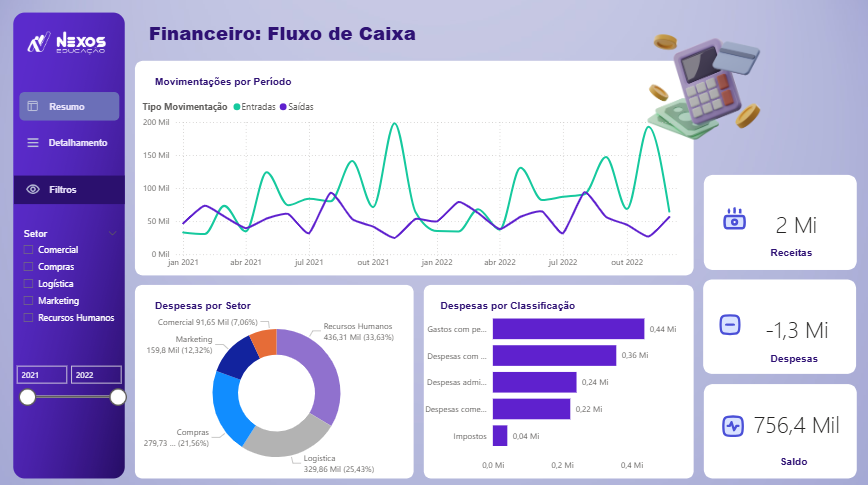

The page's visual inventory and layout, read from the dashboard file:
{"tool":"powerbi","page":{"name":"Página 1","canvas":[1280,720],"ordinal":0},"visuals":[{"type":"lineChart","fields":{"Category":["Extratos.Data.Variation.Hierarquia de datas.Ano","Extratos.Data.Variation.Hierarquia de datas.Trimestre","Extratos.Data.Variation.Hierarquia de datas.Mês","Extratos.Data.Variation.Hierarquia de datas.Dia"],"Y":["Sum(Extratos.Valor)"],"Series":["Extratos.Tipo Movimentação"]},"box":[205.9,136.8,809.3,267.8],"z":0},{"type":"card","fields":{"Values":["Sum(Extratos.Saldo)"]},"box":[1081.8,579.5,184.8,89],"z":1000},{"type":"slicer","fields":{"Values":["Setores.Setor"]},"box":[23,331.2,162.7,177.1],"z":2000},{"type":"slicer","fields":{"Values":["Extratos.Data.Variation.Hierarquia de datas.Ano"]},"box":[13,528.5,182.9,103.7],"z":3000},{"type":"card","fields":{"Values":["Sum(Extratos.Saldo)"]},"box":[1081.4,286.9,183.9,86.8],"z":4000},{"type":"card","fields":{"Values":["Sum(Extratos.Saldo)"]},"box":[1081.8,440.1,184.8,89],"z":5000},{"type":"clusteredBarChart","fields":{"Y":["Sum(Extratos.Valor)"],"Category":["Extratos.Classificação"]},"box":[610.6,440.6,413.3,262.1],"z":6000},{"type":"donutChart","fields":{"Y":["Sum(Extratos.Valor)"],"Category":["Setores.Setor"]},"box":[205.9,447.8,404.6,262.1],"z":7000}]}

Visuals, with their boxes on the page's 1280x720 design canvas (x1, y1, x2, y2). These are canvas units, not pixel positions in the 868x485 screenshot, which may show the page scaled, cropped or inside an application window:
lineChart - Extratos.Data.Variation.Hierarquia de datas.Ano x Extratos.Data.Variation.Hierarquia de datas.Trimestre: x1=206 y1=137 x2=1015 y2=405
card - Sum(Extratos.Saldo): x1=1082 y1=580 x2=1267 y2=668
slicer - Setores.Setor: x1=23 y1=331 x2=186 y2=508
slicer - Extratos.Data.Variation.Hierarquia de datas.Ano: x1=13 y1=528 x2=196 y2=632
card - Sum(Extratos.Saldo): x1=1081 y1=287 x2=1265 y2=374
card - Sum(Extratos.Saldo): x1=1082 y1=440 x2=1267 y2=529
clusteredBarChart - Sum(Extratos.Valor) x Extratos.Classificação: x1=611 y1=441 x2=1024 y2=703
donutChart - Sum(Extratos.Valor) x Setores.Setor: x1=206 y1=448 x2=610 y2=710
